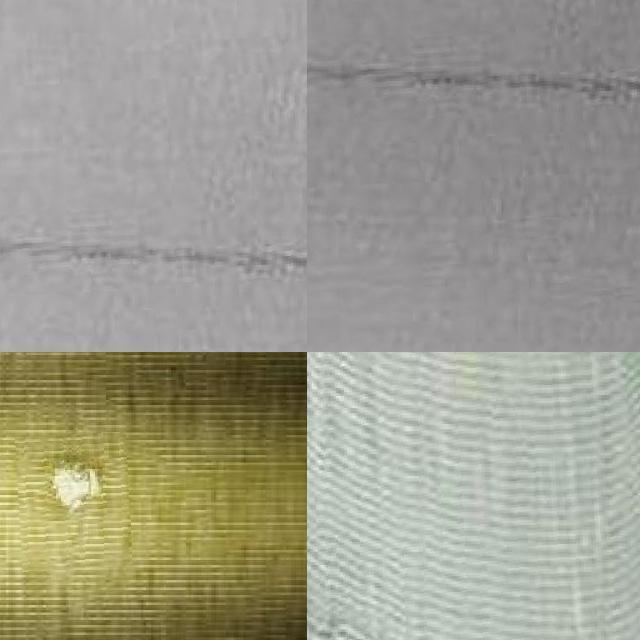other: (16, 432, 130, 570)
stains: (307, 0, 640, 310), (0, 30, 307, 352), (307, 352, 640, 640)
